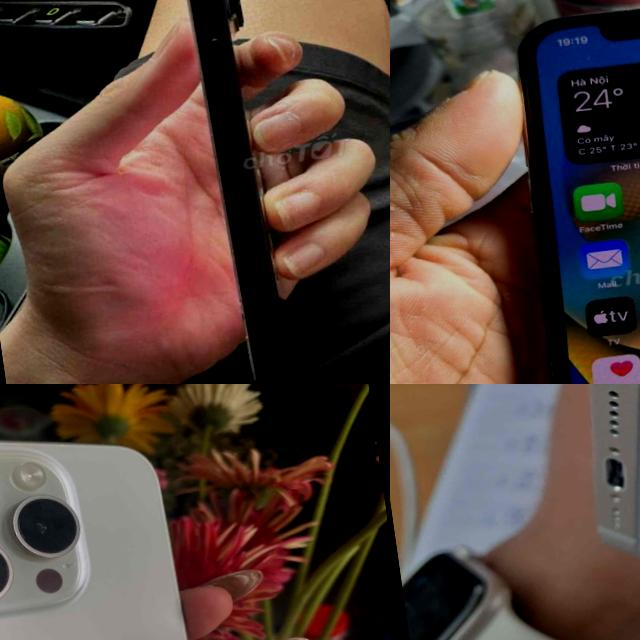gen_14: (154, 0, 310, 384)
gen_15: (0, 386, 264, 640)
gen_x_xs: (489, 0, 640, 384)
